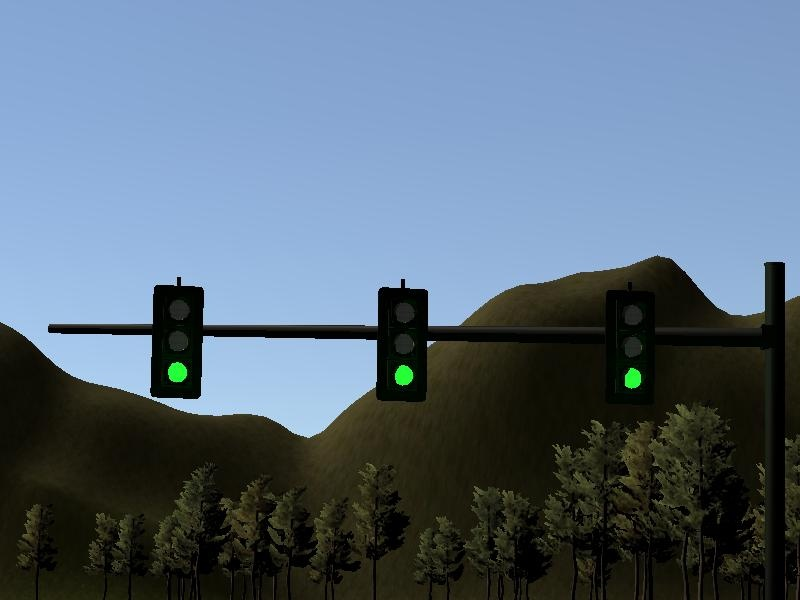green: (145, 270, 212, 404), (370, 280, 432, 410), (600, 286, 659, 404)
